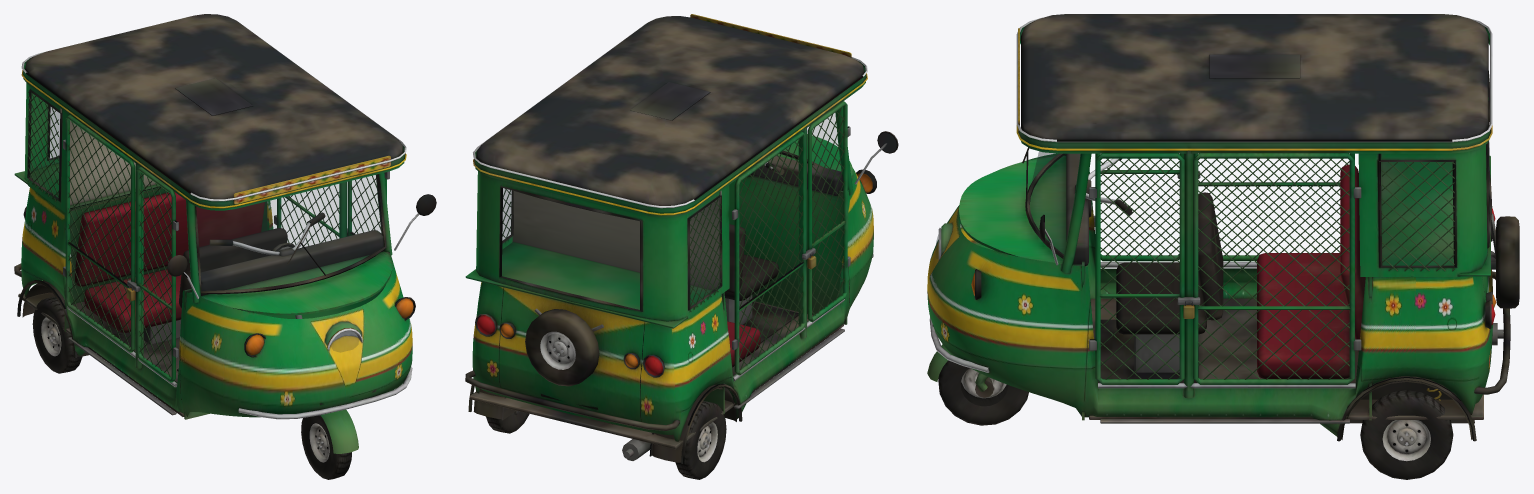
Rendered from cng.glb.
3 views of the same model, side by side, from view 1: azimuth 30°, elevation 25°; view 2: azimuth 150°, elevation 25°; view 3: azimuth 270°, elevation 25° (orthographic). The views are drawn at different scales.
Visible parts, largest first — view 1: body, glass, door_P, door_D, wheel_RR, wheel_F, steer, door_PL, door_DL; view 2: body, glass, door_P, door_D, wheel_RR, wheel_RL; view 3: body, door_PL, glass, door_DL, wheel_RL, wheel_F, door_P, door_D, steer.
Part boxes in pixels (x1,y1,x2,y2): body: (14, 14, 436, 419); glass: (30, 93, 383, 351); door_P: (65, 115, 135, 352); door_D: (136, 167, 175, 382); wheel_RR: (32, 297, 82, 373); wheel_F: (301, 415, 351, 479); steer: (209, 212, 358, 453); door_PL: (277, 185, 339, 247); door_DL: (348, 175, 386, 236); body: (465, 14, 898, 463); glass: (502, 113, 840, 309); door_P: (734, 131, 805, 375); door_D: (807, 101, 847, 322); wheel_RR: (675, 401, 726, 479); wheel_RL: (486, 410, 529, 433); body: (927, 14, 1519, 441); door_PL: (1193, 153, 1354, 384); glass: (935, 141, 1489, 264); door_DL: (1095, 153, 1184, 384); wheel_RL: (1360, 390, 1453, 479); wheel_F: (938, 360, 1028, 425); door_P: (1194, 153, 1354, 261); door_D: (1095, 153, 1183, 261); steer: (927, 158, 1132, 397).
Size of the model in its own units: 1.64 by 1.73 by 2.61.
2 materials, 1 textured.
